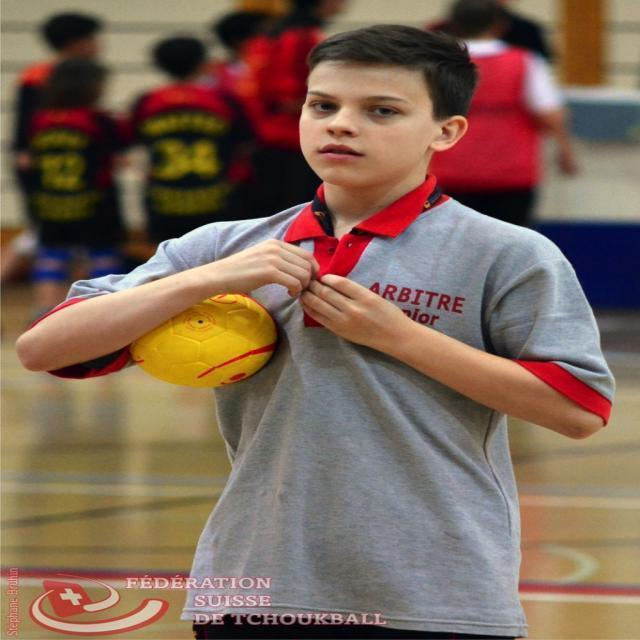ball: (123, 294, 281, 391)
